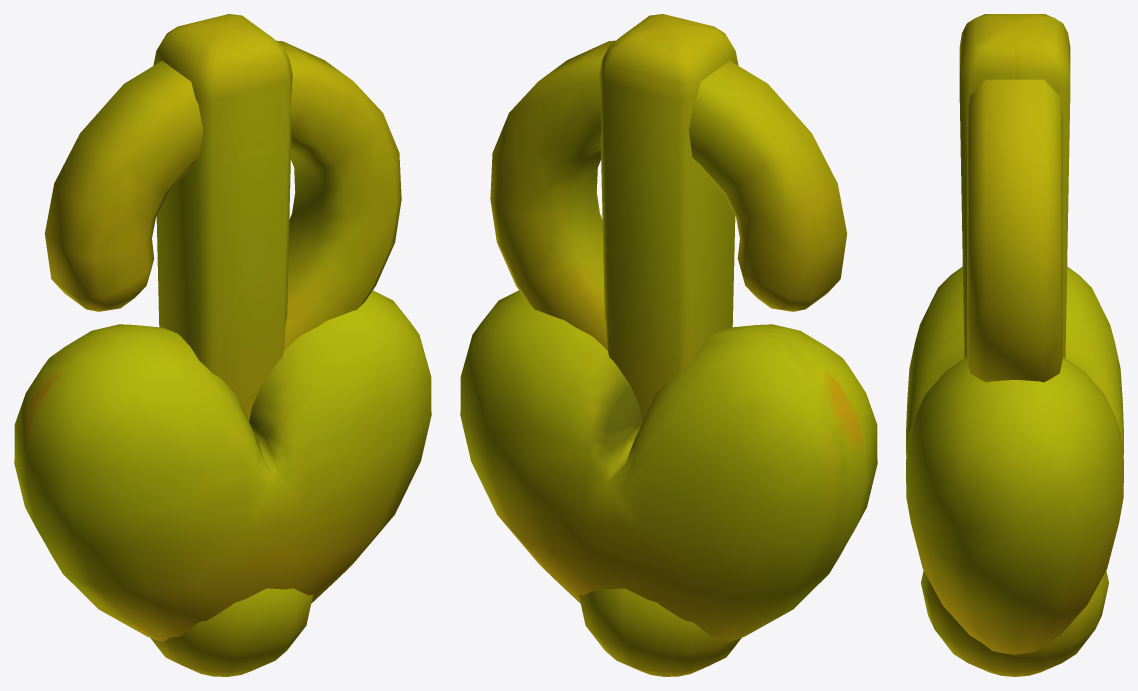
The model's file is SonicIcons.fbx.
The picture shows the model from 3 angles, left to right: view 1: azimuth 30°, elevation 25°; view 2: azimuth 150°, elevation 25°; view 3: azimuth 270°, elevation 25°; orthographic projection.
Parts seen in each view (by area): view 1: Cheese_Ball_Heart, Cheese_Ball_Question, Cheese_Ball_Exclamation; view 2: Cheese_Ball_Heart, Cheese_Ball_Question, Cheese_Ball_Exclamation; view 3: Cheese_Ball_Heart, Cheese_Ball_Question, Cheese_Ball_Exclamation.
Part boxes in pixels (x1,y1,x2,y2): Cheese_Ball_Heart: [14, 290, 431, 641]; Cheese_Ball_Question: [44, 40, 401, 676]; Cheese_Ball_Exclamation: [153, 14, 292, 421]; Cheese_Ball_Heart: [460, 290, 877, 641]; Cheese_Ball_Question: [490, 40, 847, 676]; Cheese_Ball_Exclamation: [599, 14, 738, 421]; Cheese_Ball_Heart: [906, 266, 1123, 654]; Cheese_Ball_Question: [921, 79, 1108, 676]; Cheese_Ball_Exclamation: [959, 14, 1070, 358].
Bounding box in the file's own units: 18.59 × 29.08 × 8.89.
1 material, 1 textured.
